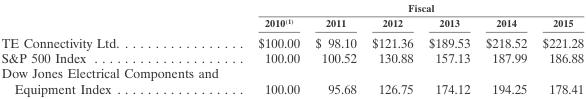table: (0, 1, 583, 96)
table column: (0, 1, 237, 96), (237, 1, 306, 96), (306, 1, 363, 96), (363, 1, 420, 96), (420, 1, 477, 96), (477, 1, 534, 96), (534, 1, 583, 96)
table column header: (0, 1, 583, 31)
table row: (0, 65, 583, 96), (0, 31, 583, 49), (0, 14, 583, 31), (0, 49, 583, 65), (0, 1, 583, 14)
table spanning cell: (237, 1, 583, 14)
